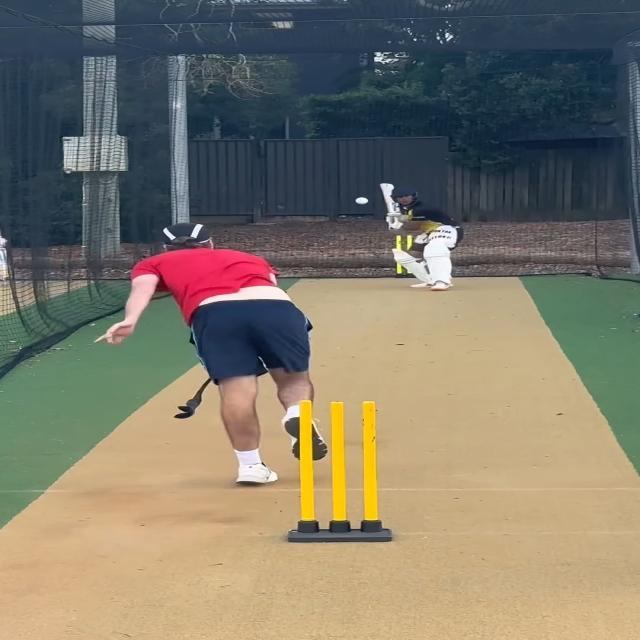ball: (354, 196, 370, 206)
stump: (287, 399, 393, 545)
